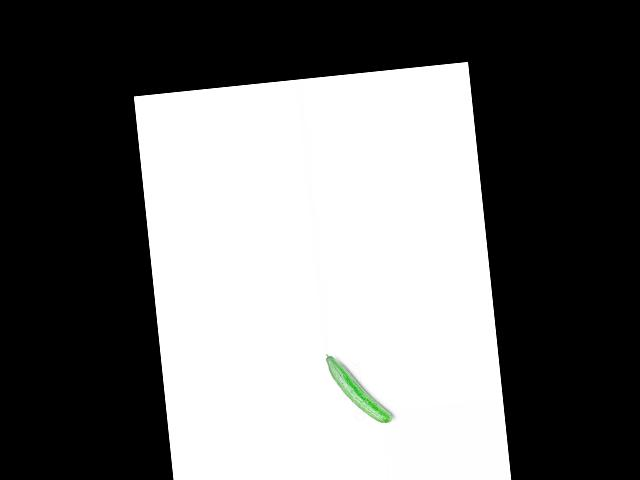cucumber: (325, 347, 393, 427)
